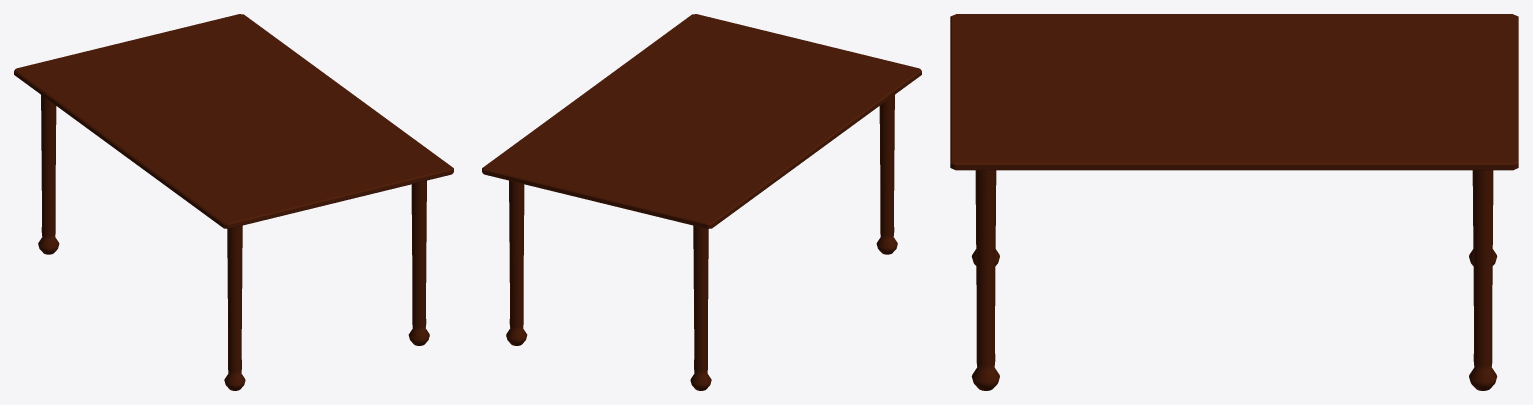
Rendered from M_Sem04_Prop_Table_SBoewing.fbx.
3 renders of one model, left to right at view 1: azimuth 30°, elevation 25°; view 2: azimuth 150°, elevation 25°; view 3: azimuth 270°, elevation 25°, orthographic. The views are drawn at different scales.
Visible parts, largest first — view 1: pCube3; view 2: pCube3; view 3: pCube3.
Part boxes in pixels (<box>): pCube3: <box>14,14,453,390</box>; pCube3: <box>482,14,921,390</box>; pCube3: <box>950,14,1518,390</box>.
Size of the model in its own units: 100 by 74.38 by 160.
